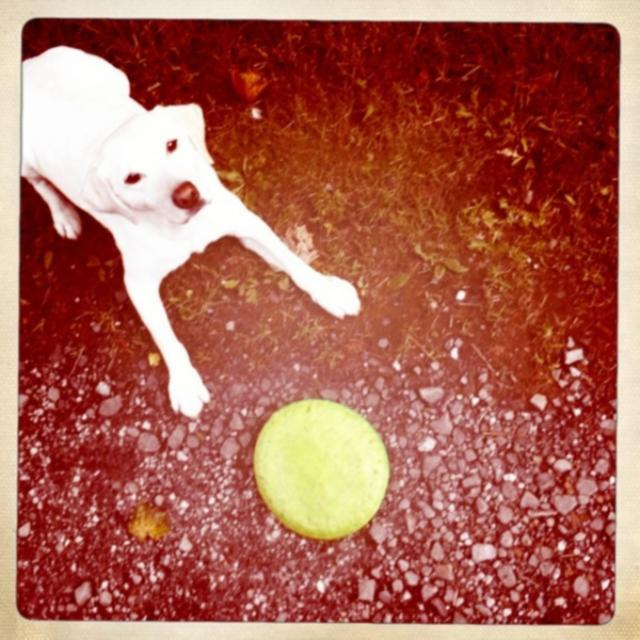dog: (18, 45, 360, 420)
